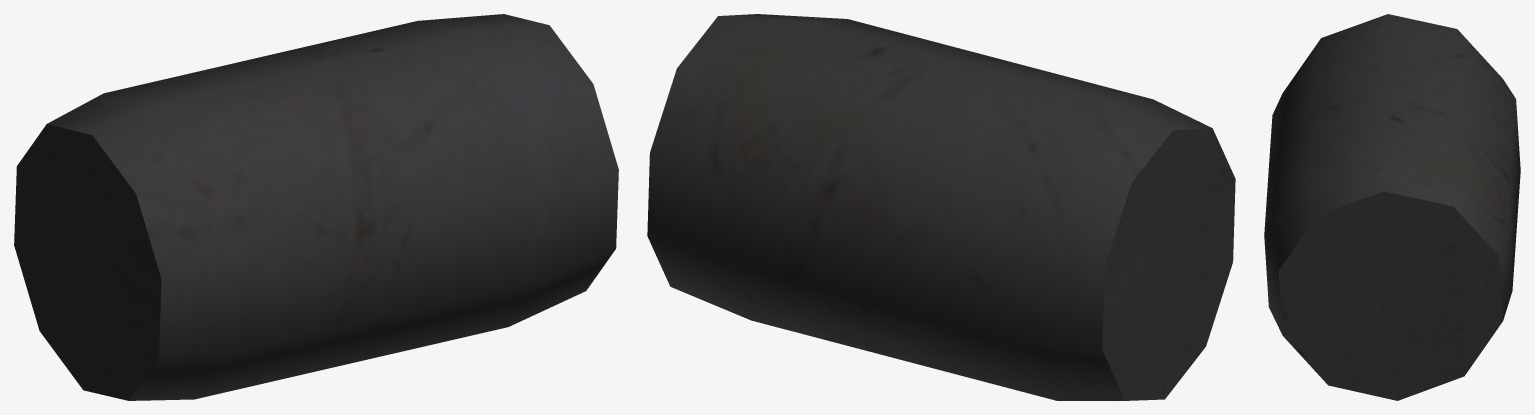
Rendered from SM_EN_1002_chuangcang05.FBX.
3 renders of one model, left to right at view 1: azimuth 30°, elevation 25°; view 2: azimuth 150°, elevation 25°; view 3: azimuth 270°, elevation 25°, orthographic. The views are drawn at different scales.
Visible parts, largest first — view 1: SM_EN_1002_chuangcang05; view 2: SM_EN_1002_chuangcang05; view 3: SM_EN_1002_chuangcang05.
Boxes of the visible parts, x1,y1,x2,y2 form: SM_EN_1002_chuangcang05: [14, 14, 618, 400]; SM_EN_1002_chuangcang05: [647, 14, 1235, 400]; SM_EN_1002_chuangcang05: [1264, 14, 1520, 400].
Size of the model in its own units: 33.94 by 20.32 by 20.32.
